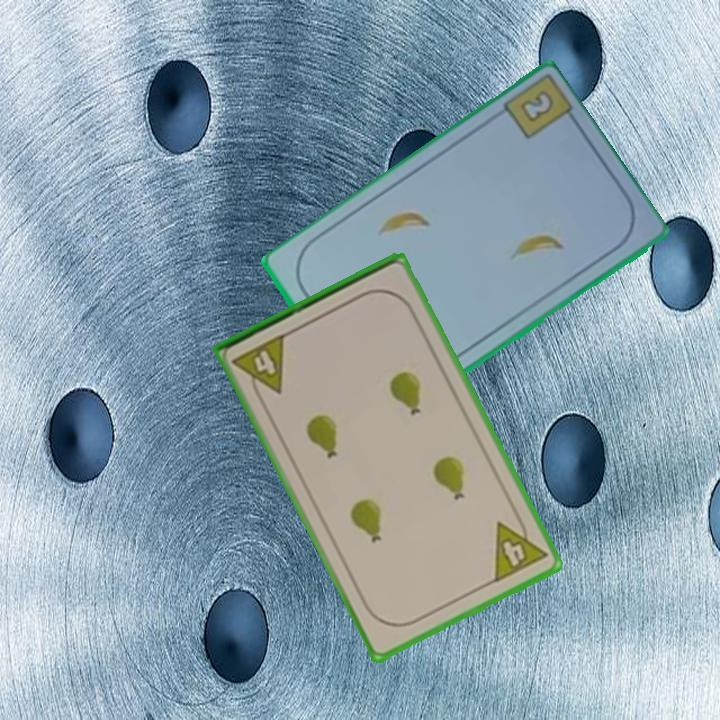2b: (516, 87, 557, 127)
4p: (490, 509, 550, 586), (228, 330, 289, 404)
